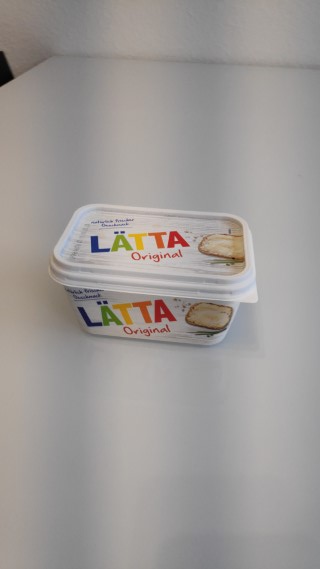laetta: (47, 201, 260, 346)
